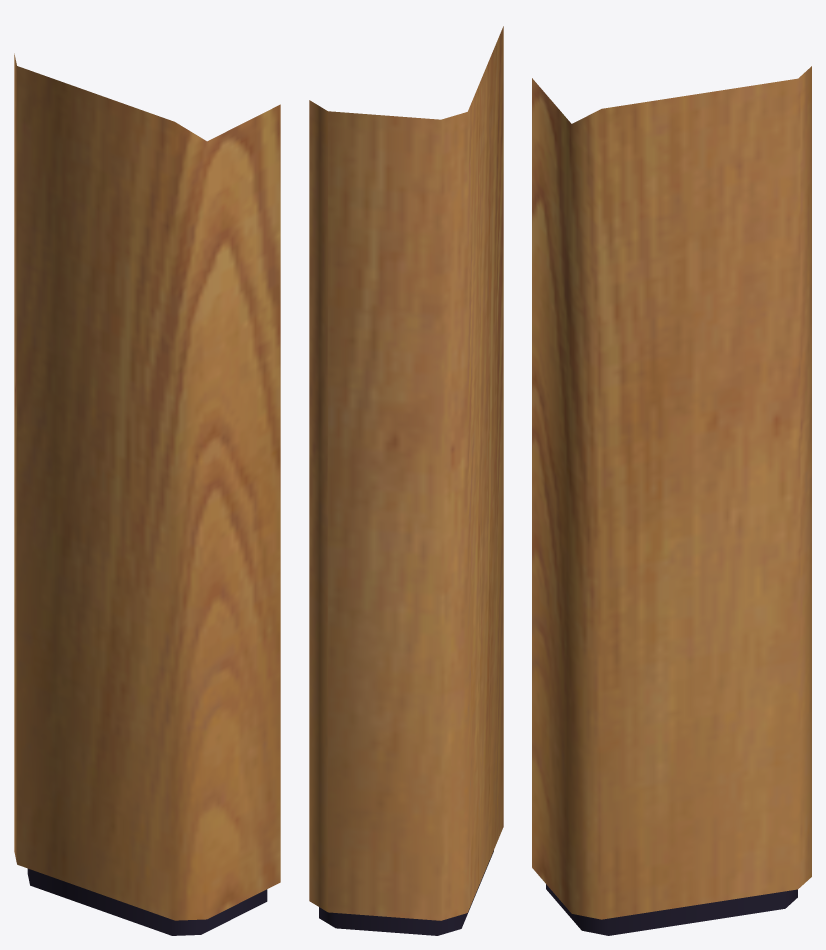
The picture shows the model from 3 angles, left to right: view 1: azimuth 30°, elevation 25°; view 2: azimuth 150°, elevation 25°; view 3: azimuth 270°, elevation 25°; orthographic projection.
Parts seen in each view (by area): view 1: Joint_0_Object_0, Joint_0_Object_1; view 2: Joint_0_Object_0, Joint_0_Object_1; view 3: Joint_0_Object_0, Joint_0_Object_1.
Boxes of the visible parts, x1=… form: Joint_0_Object_0: x1=14, y1=53, x2=280, y2=920; Joint_0_Object_1: x1=27, y1=868, x2=267, y2=935; Joint_0_Object_0: x1=309, y1=26, x2=503, y2=920; Joint_0_Object_1: x1=319, y1=850, x2=493, y2=935; Joint_0_Object_0: x1=532, y1=66, x2=811, y2=919; Joint_0_Object_1: x1=546, y1=884, x2=797, y2=935.
Bounding box in the file's own units: 96.56 × 395 × 120.
Materials: 2 (2 with a texture image).
